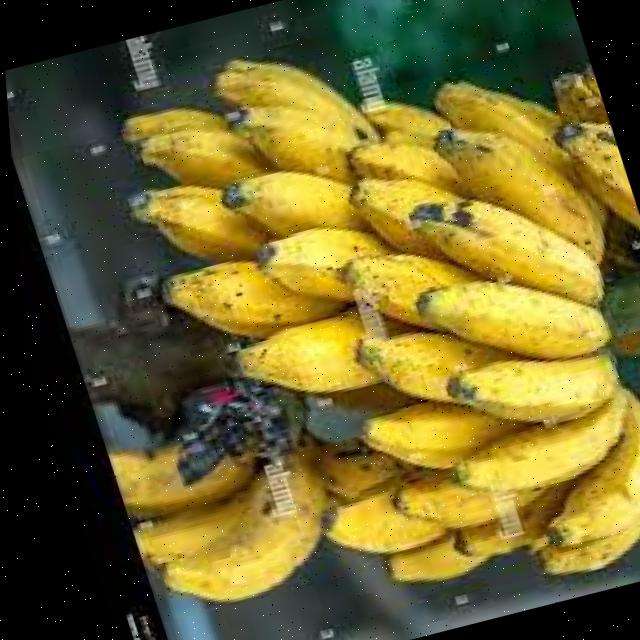Banana: (435, 128, 599, 260), (407, 200, 597, 305), (528, 393, 640, 570), (448, 389, 619, 491), (415, 281, 605, 358), (159, 261, 339, 338), (434, 82, 574, 180), (156, 516, 311, 602), (444, 354, 611, 422), (237, 312, 373, 393), (357, 401, 518, 469), (354, 332, 509, 402), (127, 187, 262, 262), (343, 254, 473, 327), (221, 172, 365, 237), (233, 105, 359, 177), (349, 178, 457, 258), (319, 487, 436, 553), (139, 130, 268, 187), (258, 228, 385, 270), (350, 145, 462, 191), (388, 478, 489, 528)
